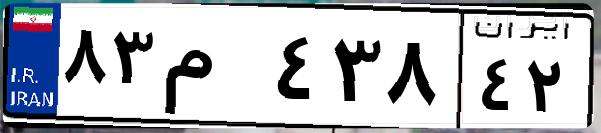2: (525, 38, 570, 115)
3: (330, 28, 385, 110), (110, 28, 158, 98)
4: (270, 28, 330, 110), (475, 38, 525, 113)
8: (385, 28, 445, 110), (57, 26, 110, 100)
م: (158, 20, 270, 120)
